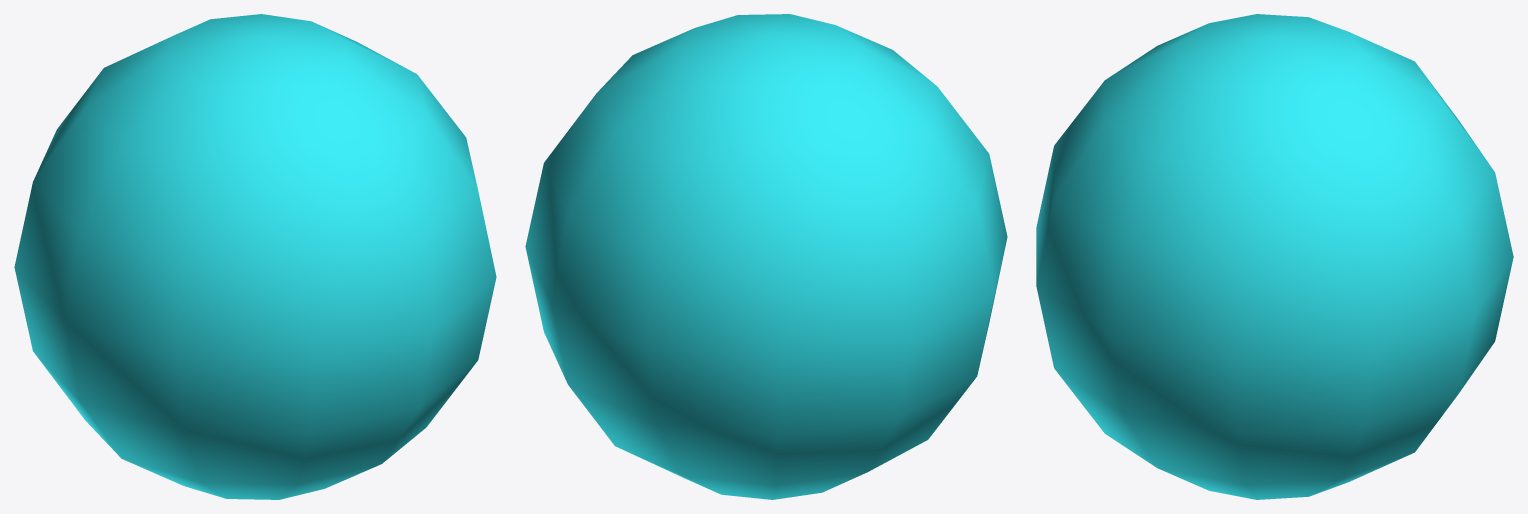
File: 20_IceCream_3.fbx
3 views of the same model, side by side, from view 1: azimuth 30°, elevation 25°; view 2: azimuth 150°, elevation 25°; view 3: azimuth 270°, elevation 25° (orthographic).
Parts seen in each view (by area): view 1: Sphere.002; view 2: Sphere.002; view 3: Sphere.002.
Part boxes in pixels (left/top/right/bottom): Sphere.002: left=14, top=14, right=496, bottom=499; Sphere.002: left=525, top=14, right=1007, bottom=499; Sphere.002: left=1036, top=14, right=1513, bottom=499.
Bounding box in the file's own units: 45.68 × 46.15 × 45.22.
